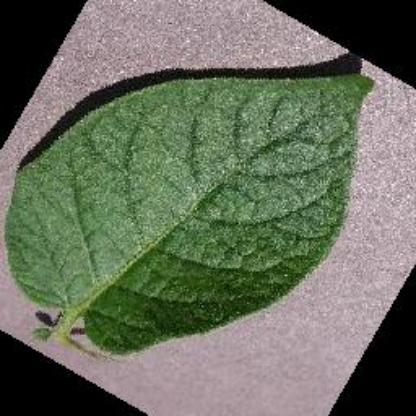Healthy-plant: (10, 67, 374, 357)
